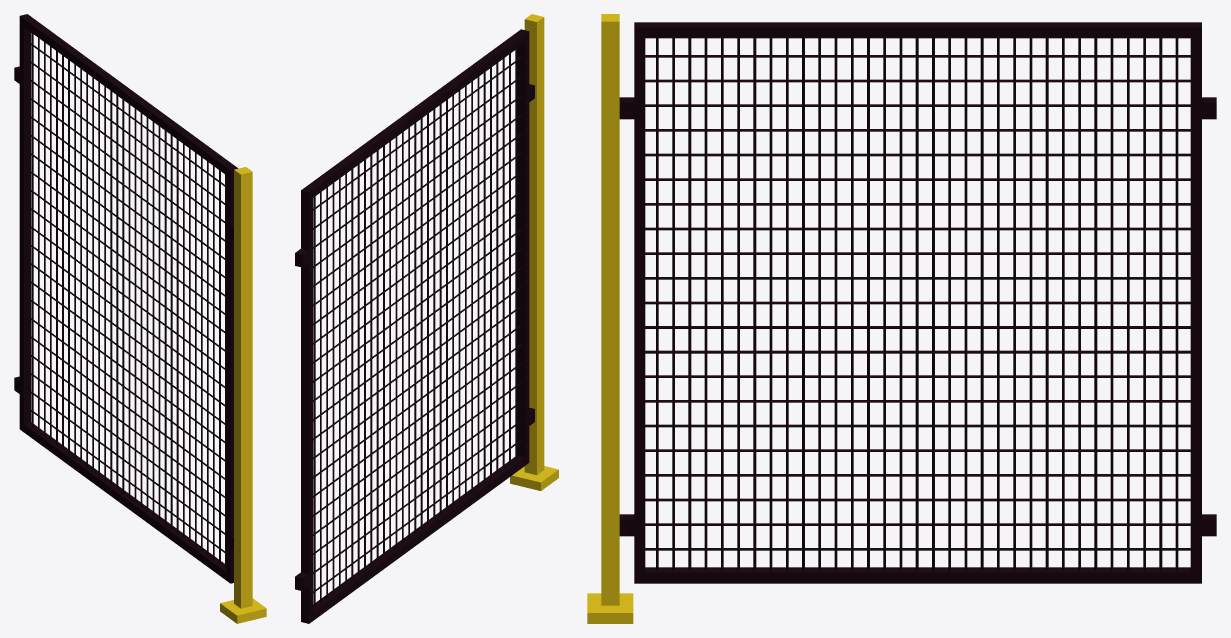
Rendered from FenceJoin.fbx.
3 renders of one model, left to right at view 1: azimuth 30°, elevation 25°; view 2: azimuth 150°, elevation 25°; view 3: azimuth 270°, elevation 25°, orthographic. The views are drawn at different scales.
Parts seen in each view (by area): view 1: Fence, Base; view 2: Fence, Base; view 3: Fence, Base.
Boxes of the visible parts, box(x1,y1,x2,y2) form: Fence: box(14, 14, 238, 583); Base: box(220, 167, 266, 623); Fence: box(295, 29, 534, 623); Base: box(510, 14, 558, 490); Fence: box(619, 22, 1216, 583); Base: box(587, 14, 633, 623).
Size of the model in its own units: 150 by 2145 by 2051.
